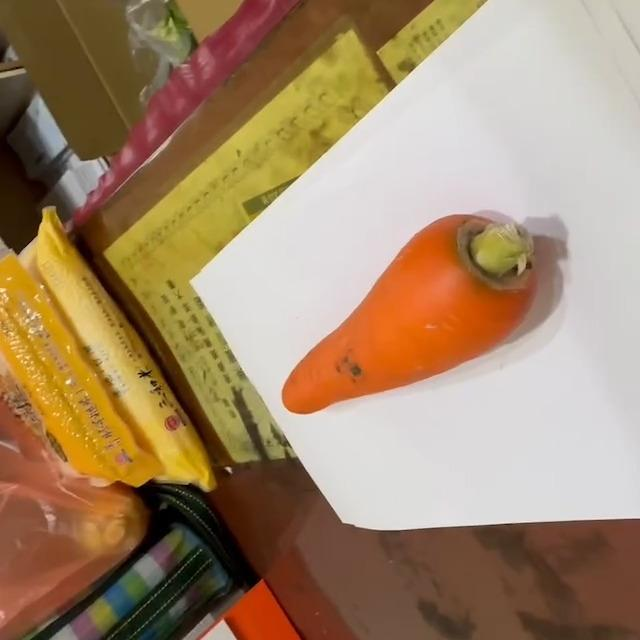carrot: (282, 213, 541, 421)
